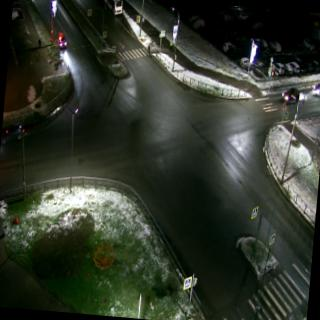small-vehicle: (282, 86, 304, 102), (53, 32, 68, 47), (312, 81, 320, 99)
